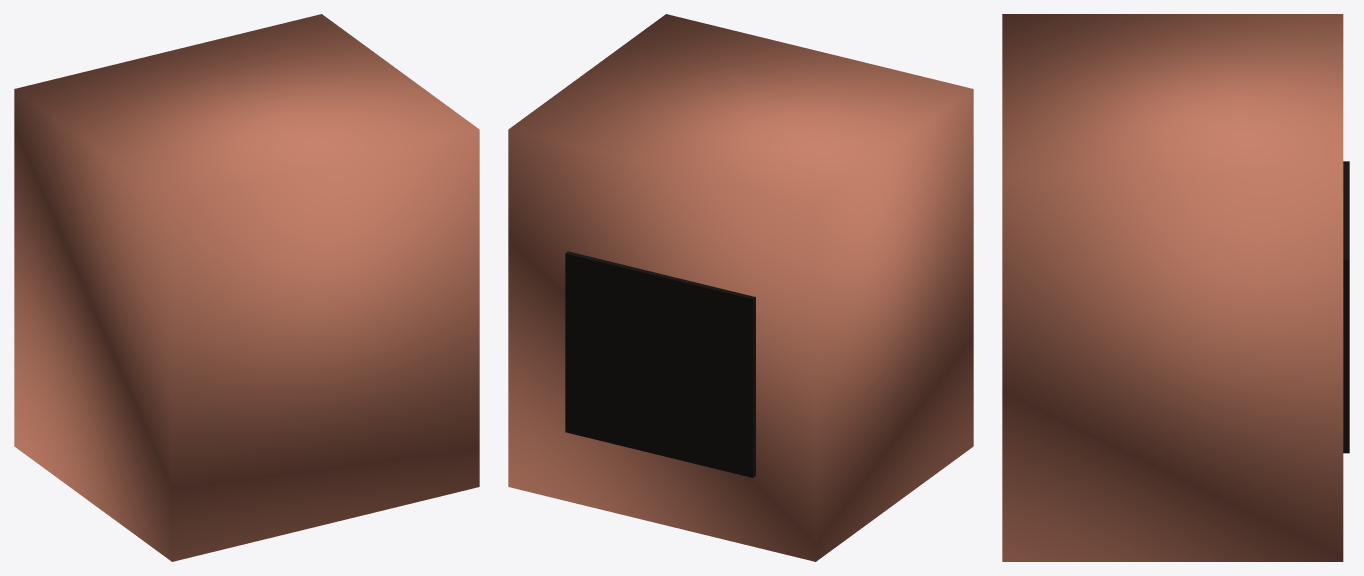
Rendered from atelier-building.glb.
The picture shows the model from 3 angles, left to right: view 1: azimuth 30°, elevation 25°; view 2: azimuth 150°, elevation 25°; view 3: azimuth 270°, elevation 25°; orthographic projection. The views are drawn at different scales.
Parts seen in each view (by area): view 1: atelier_Building; view 2: atelier_Building, atelier_Window; view 3: atelier_Building, atelier_Window.
Boxes of the visible parts, <box> form: atelier_Building: <box>14,14,479,561</box>; atelier_Building: <box>508,14,973,561</box>; atelier_Window: <box>565,251,755,477</box>; atelier_Building: <box>1002,14,1343,561</box>; atelier_Window: <box>1343,161,1349,453</box>.
Size of the model in its own units: 3.6 by 4 by 3.26.
